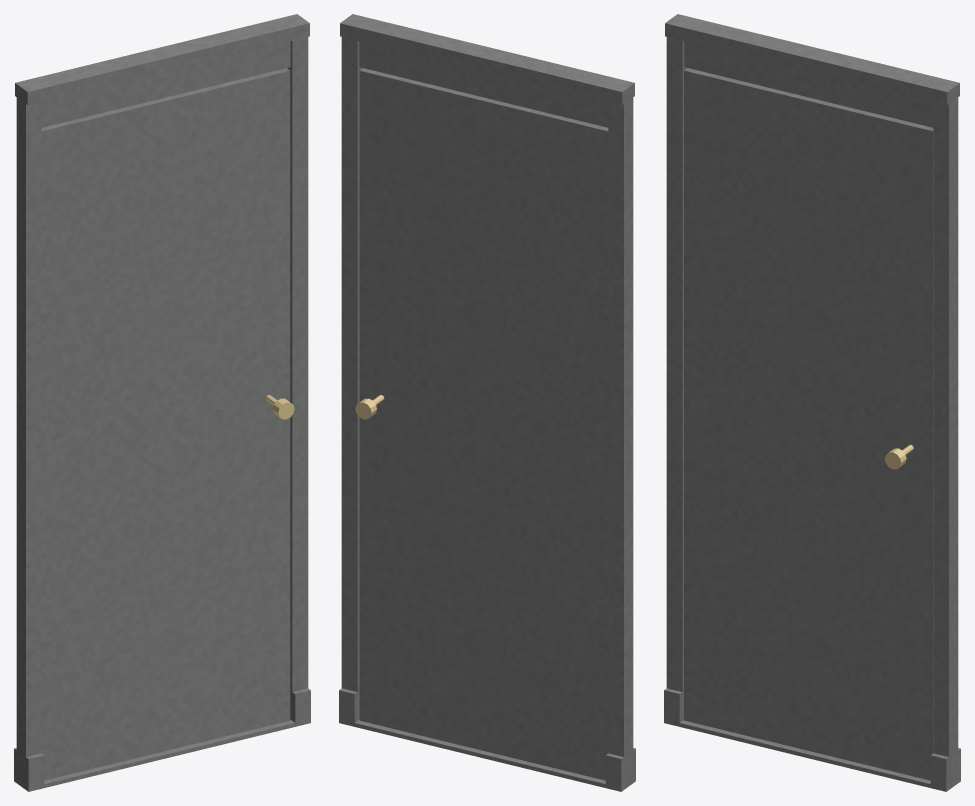
File: X14_PART_Door_090.glb
3 views of the same model, side by side, from view 1: azimuth 30°, elevation 25°; view 2: azimuth 150°, elevation 25°; view 3: azimuth 330°, elevation 25° (orthographic).
Parts seen in each view (by area): view 1: X14_PART_Door_090_Leaf_LOD0, X14_PART_Door_090_LOD0; view 2: X14_PART_Door_090_Leaf_LOD0, X14_PART_Door_090_LOD0; view 3: X14_PART_Door_090_Leaf_LOD0, X14_PART_Door_090_LOD0.
Boxes of the visible parts, left/top/right/bottom form: X14_PART_Door_090_Leaf_LOD0: left=41, top=68, right=294, bottom=780; X14_PART_Door_090_LOD0: left=14, top=14, right=310, bottom=791; X14_PART_Door_090_Leaf_LOD0: left=355, top=68, right=608, bottom=780; X14_PART_Door_090_LOD0: left=339, top=14, right=635, bottom=791; X14_PART_Door_090_Leaf_LOD0: left=684, top=68, right=933, bottom=780; X14_PART_Door_090_LOD0: left=664, top=14, right=960, bottom=791.
Size of what is drawn, in the model's own units: 0.9 by 2.13 by 0.24.
Materials: 2 (1 with a texture image).
